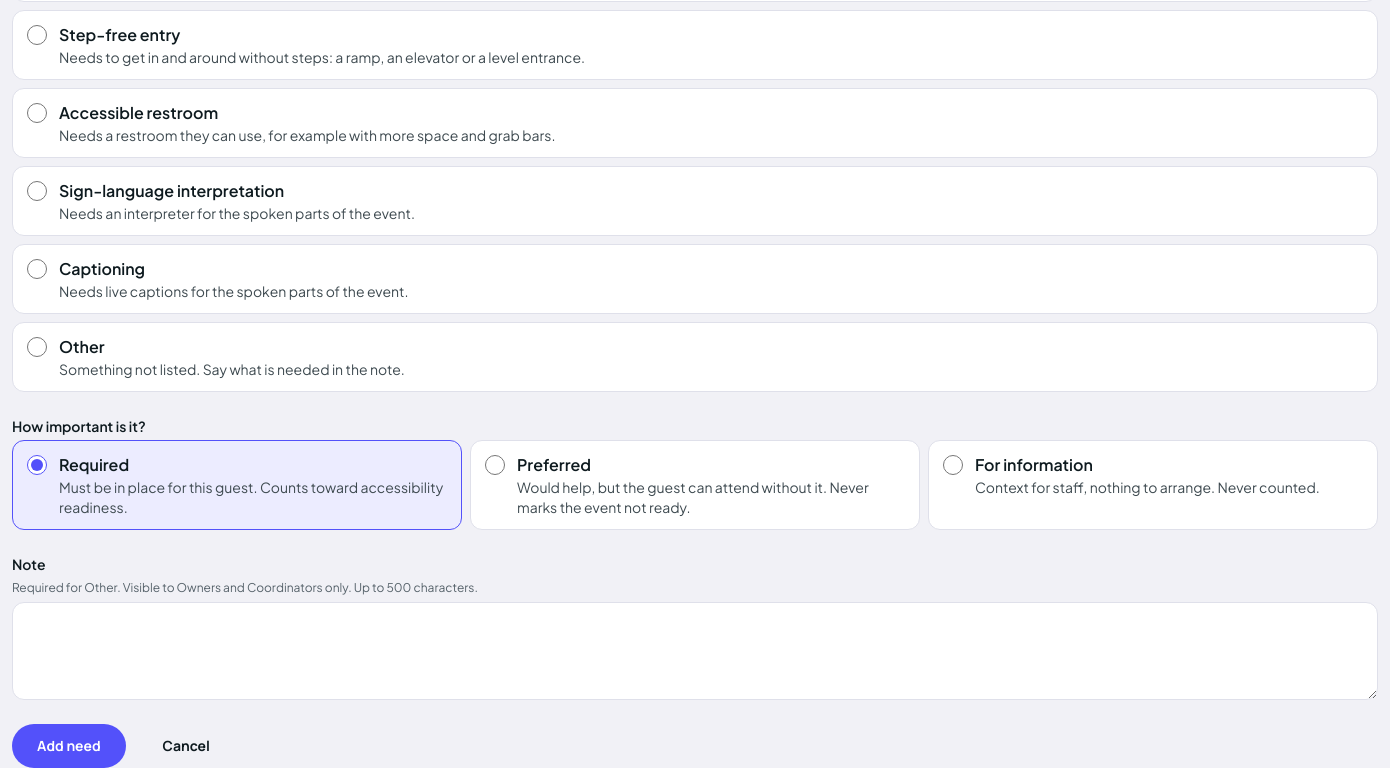
RequirementForm › shows the server's field errors, linked from a summary, and keeps the input
(page scrolled)
Click the button "Add need": (69, 746) [12,724,126,767]
(page scrolled)
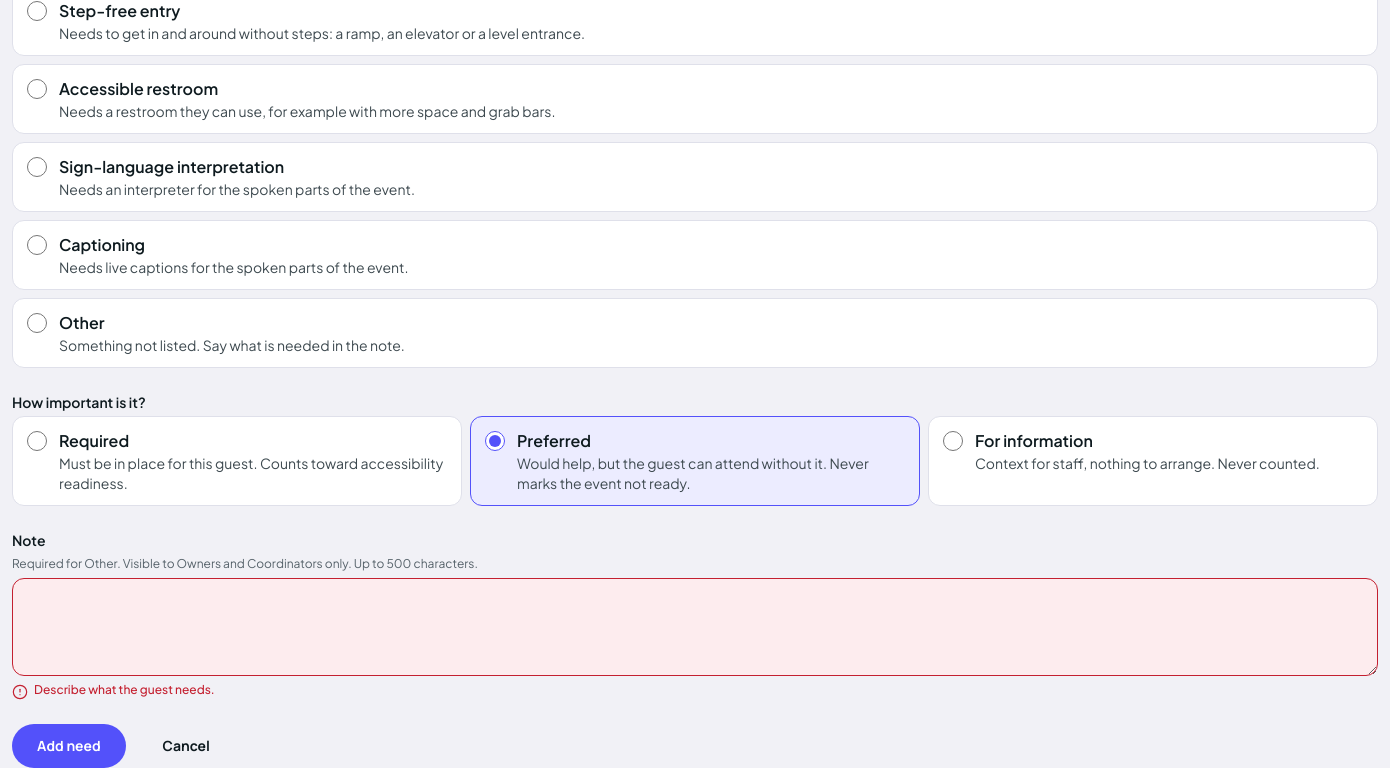
Now the radio button labelled "Preferred" is checked, box [485,431,505,451]
